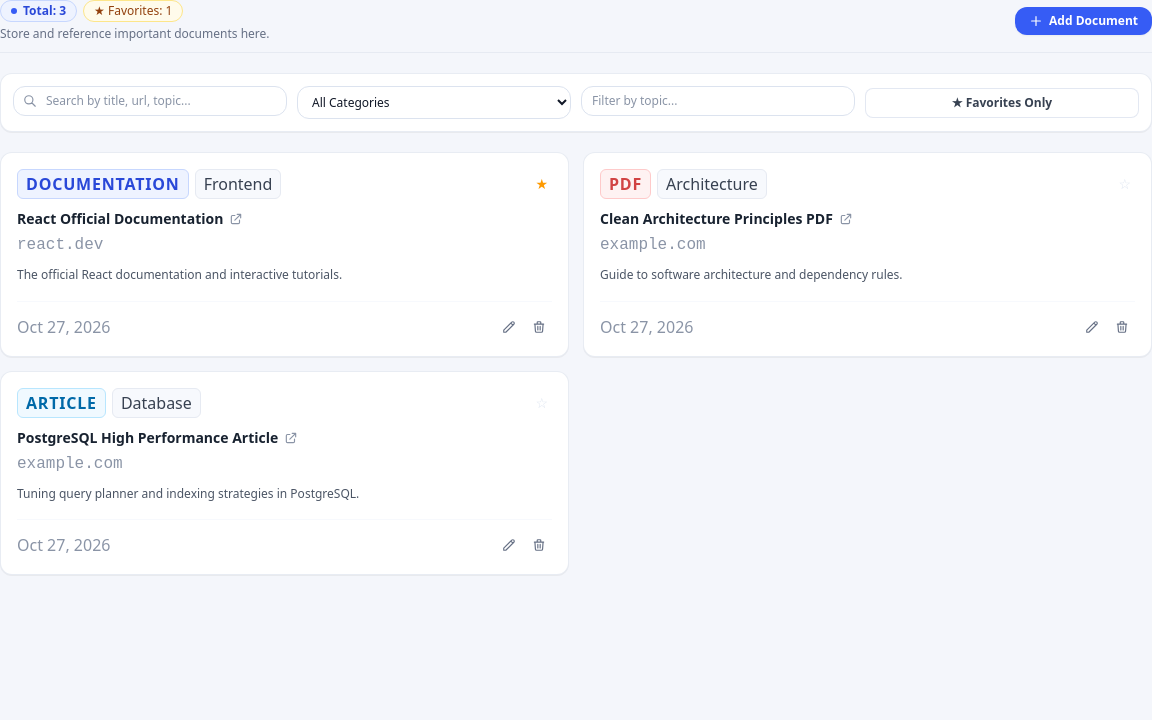
Test case: Document Library Feature Frontend Test Suite › rejects non-http/https URL in create modal
Expected: the text "React Official Documentation" is shown, [17, 209, 223, 229]
Click the button "Add Document".
click(1084, 21)  # box [1015, 7, 1151, 35]
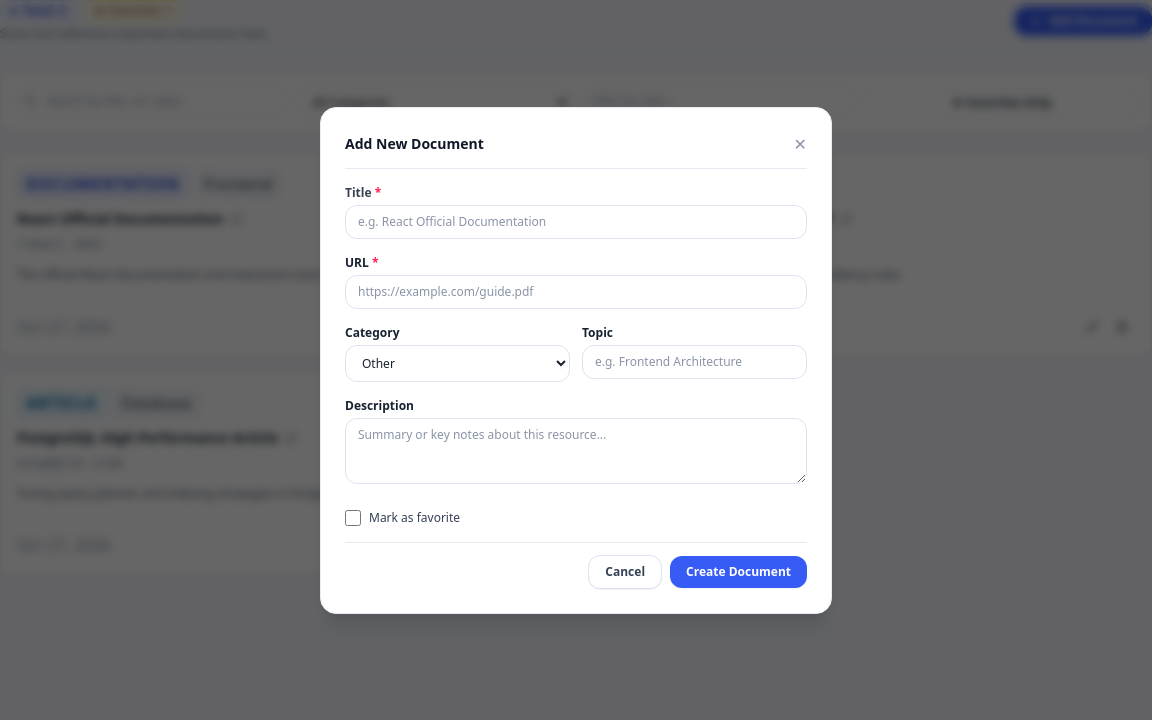
Type "Unsafe Link" into the field labelled "Title *".
click(576, 222); type("Unsafe Link")  # box [345, 204, 807, 238]
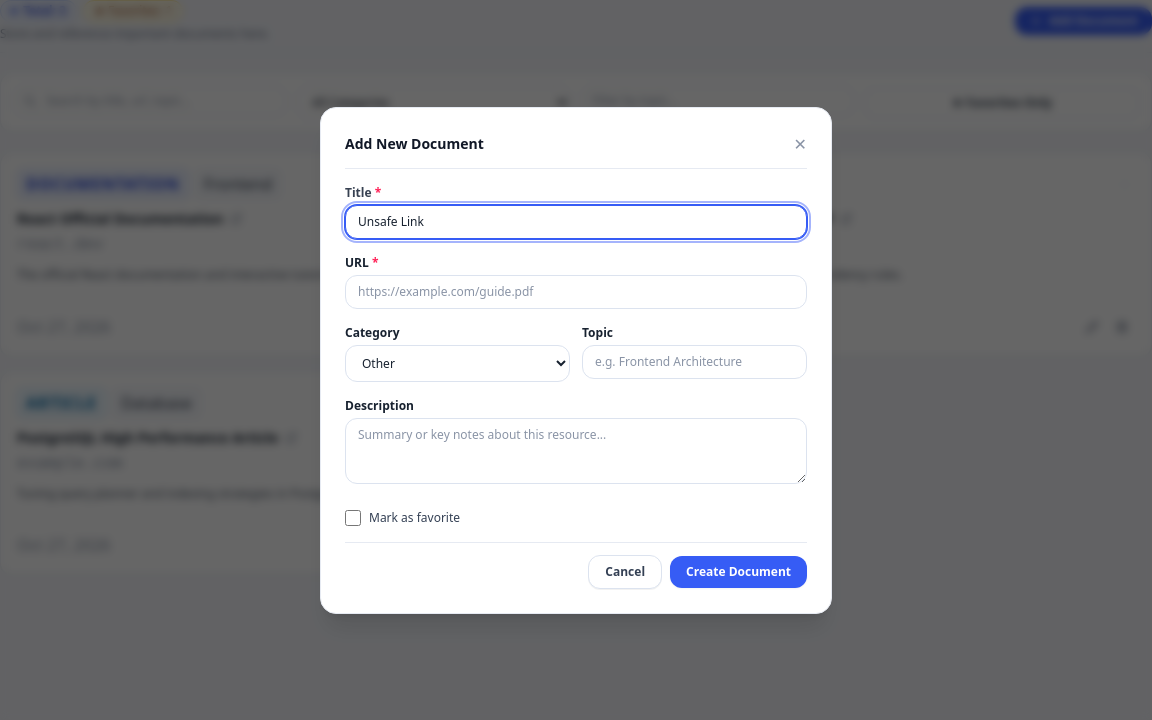
Type "javascript:alert(1)" into the field labelled "URL *".
click(576, 292); type("javascript:alert(1)")  # box [345, 274, 807, 308]
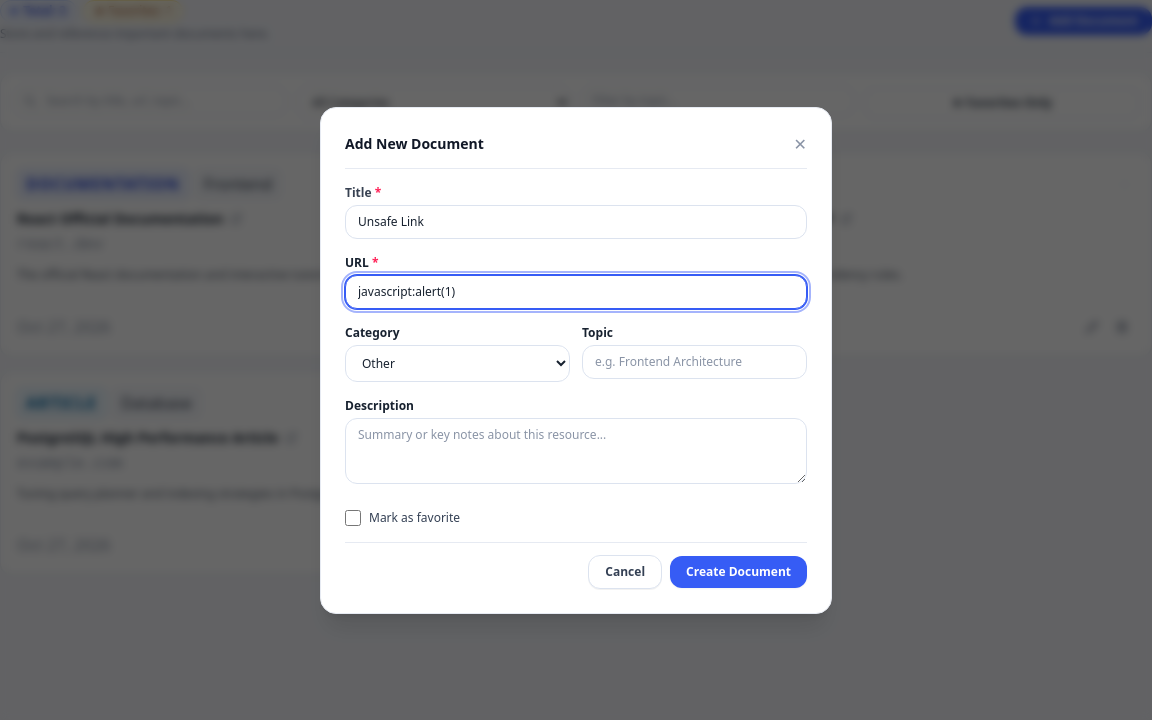
Click the button "Create Document".
click(738, 572)  # box [670, 556, 807, 588]
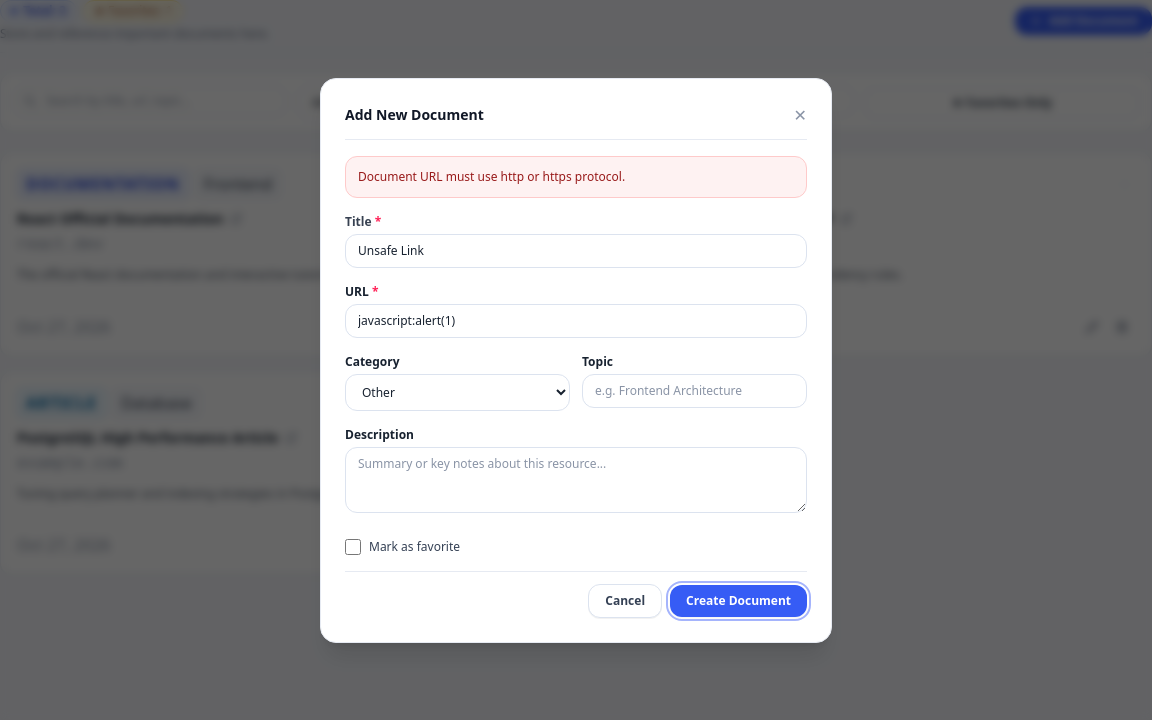
Now the text "Document URL must use http or https protocol." is shown, box [345, 156, 807, 198]
